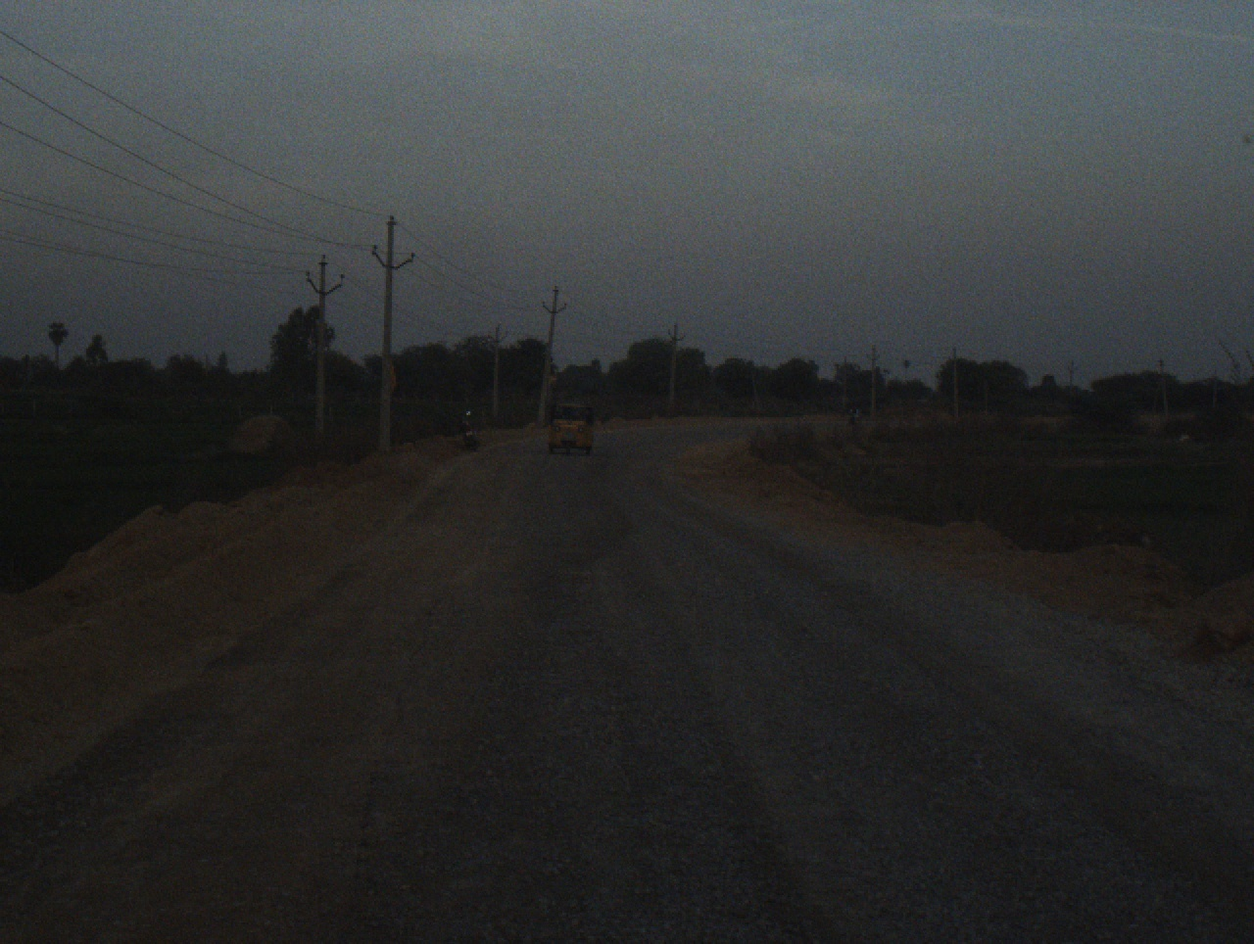autorickshaw: (544, 390, 601, 467)
motorcycle: (455, 405, 479, 456)
